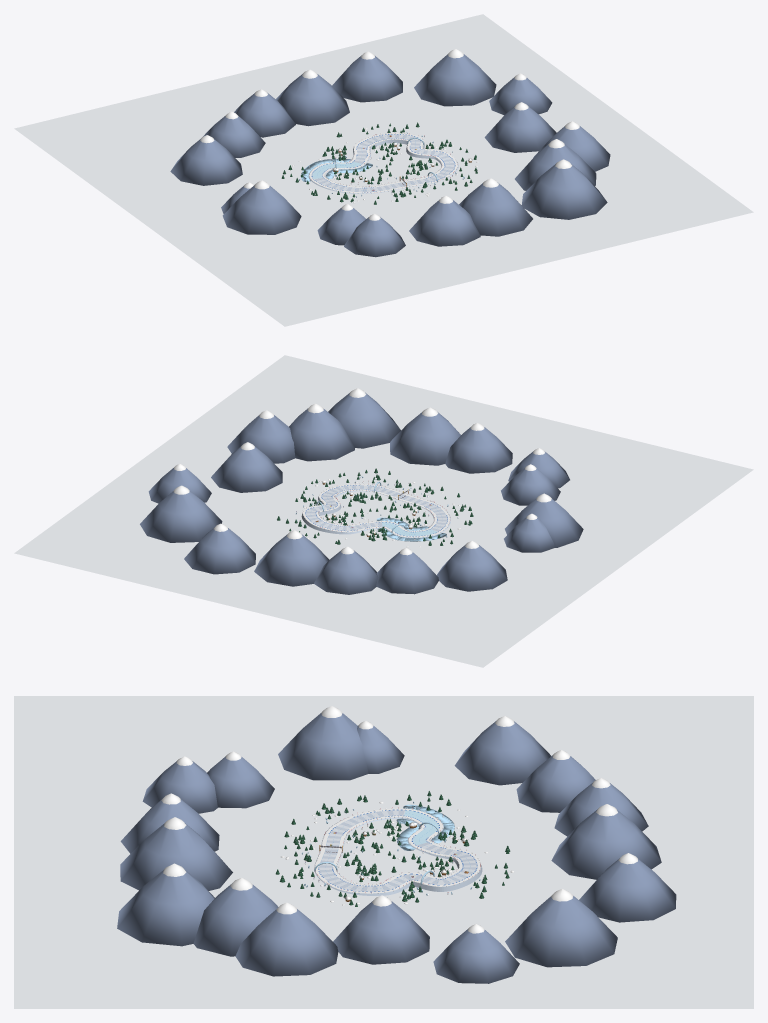
File: carreras_nieve.glb
The picture shows the model from 3 angles, top to bottom: view 1: azimuth 30°, elevation 25°; view 2: azimuth 150°, elevation 25°; view 3: azimuth 270°, elevation 25°; orthographic projection. The views are drawn at different scales.
Parts seen in each view (by area): view 1: nieve Tela | suelo nieve 99 99, nieve Laca | montana #8A9AB8 99 99, nieve Tela | nieve 99 99; view 2: nieve Tela | suelo nieve 99 99, nieve Laca | montana #8A9AB8 99 99, nieve Tela | nieve 99 99; view 3: nieve Tela | suelo nieve 99 99, nieve Laca | montana #8A9AB8 99 99, nieve Tela | nieve 99 99, nieve Laca | lago hielo -1 0, nieve Tela | pino 0 -1, nieve Tela | pino 0 0, nieve Tela | pino -1 -1, nieve Tela | pino -1 0, nieve Tela | talud nieve 0 0, nieve Tela | camino claro nieve 0 0, nieve Tela | camino nieve 0 0, nieve Tela | orilla nieve 0 0.
Part boxes in pixels (x1,y1,x2,y2): nieve Tela | suelo nieve 99 99: [14, 14, 753, 326]; nieve Laca | montana #8A9AB8 99 99: [170, 54, 610, 257]; nieve Tela | nieve 99 99: [200, 49, 579, 220]; nieve Tela | suelo nieve 99 99: [14, 355, 753, 667]; nieve Laca | montana #8A9AB8 99 99: [140, 392, 583, 594]; nieve Tela | nieve 99 99: [173, 388, 551, 555]; nieve Tela | suelo nieve 99 99: [14, 696, 753, 1008]; nieve Laca | montana #8A9AB8 99 99: [117, 713, 676, 983]; nieve Tela | nieve 99 99: [161, 706, 637, 933]; nieve Laca | lago hielo -1 0: [396, 804, 454, 850]; nieve Tela | pino 0 -1: [275, 847, 381, 906]; nieve Tela | pino 0 0: [388, 849, 509, 902]; nieve Tela | pino -1 -1: [284, 795, 383, 851]; nieve Tela | pino -1 0: [383, 791, 510, 851]; nieve Tela | talud nieve 0 0: [384, 852, 482, 895]; nieve Tela | camino claro nieve 0 0: [382, 849, 476, 890]; nieve Tela | camino nieve 0 0: [384, 849, 476, 889]; nieve Tela | orilla nieve 0 0: [383, 850, 480, 892].
Bounding box in the file's own units: 840 × 73.31 × 840.
